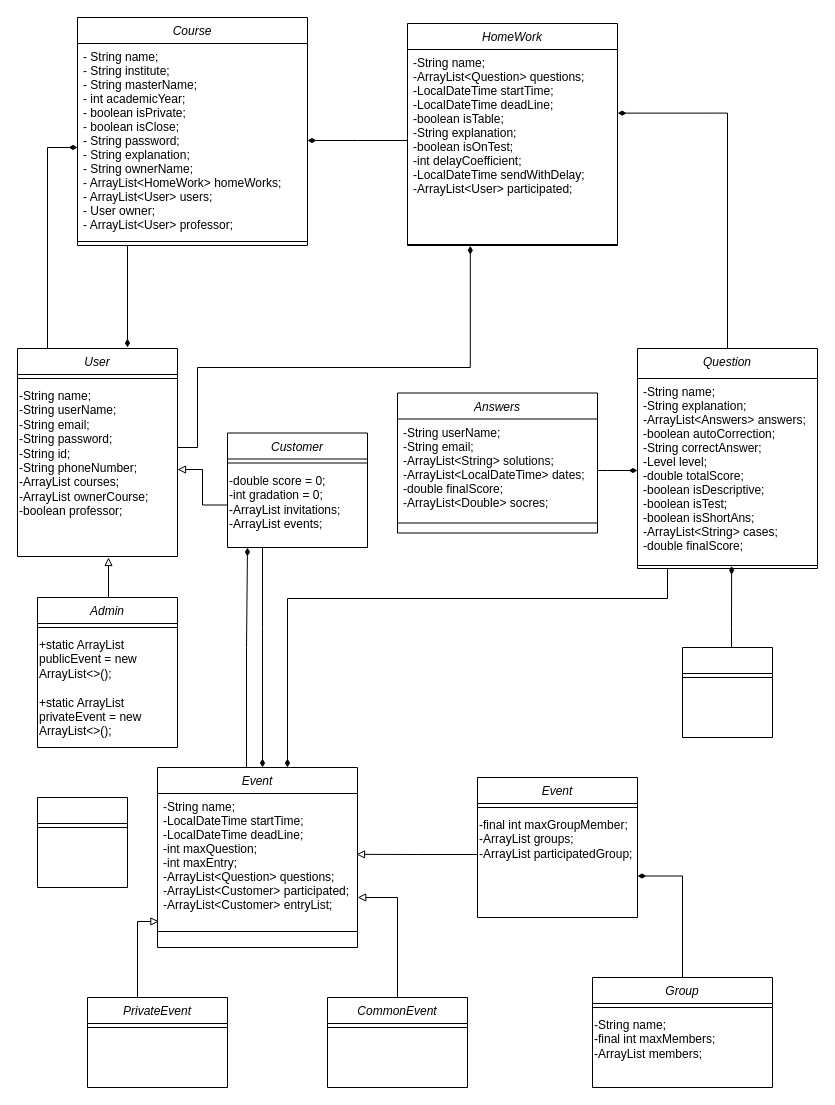
Image size: 835x1105. Some labels were removed from this diagram. Here are the shapes that lost their labels. From the top down, the centre of each, then its label:
point (727, 692): Enum Level
point (82, 842): Guest
